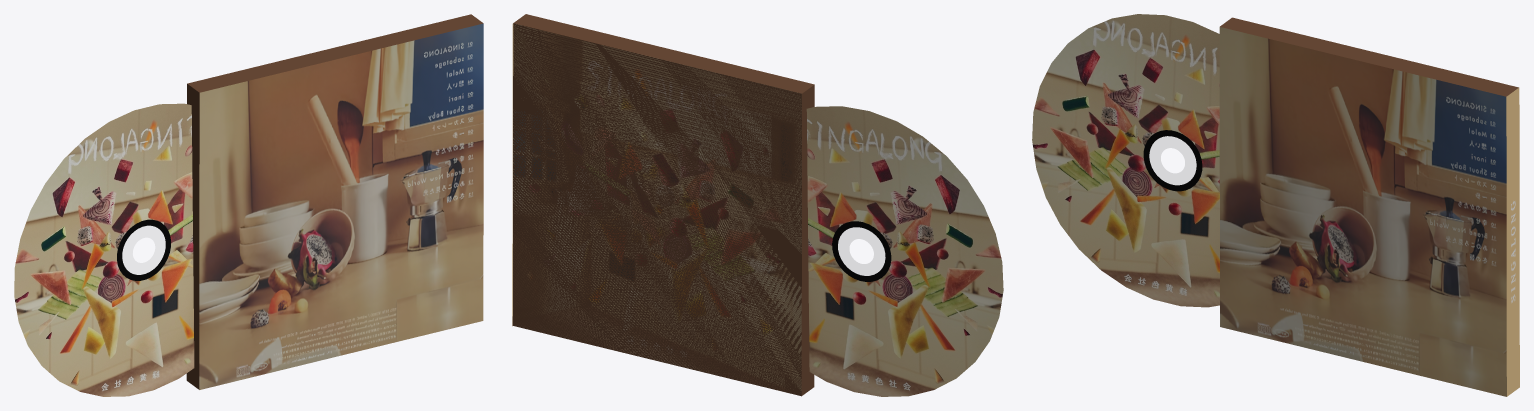
Rendered from cover4.glb.
3 renders of one model, left to right at view 1: azimuth 30°, elevation 25°; view 2: azimuth 150°, elevation 25°; view 3: azimuth 330°, elevation 25°, orthographic.
Visible parts, largest first — view 1: Plane.004, Circle, Plane, Circle.003, Circle.001; view 2: Plane, Circle, Plane.002, Circle.003, Circle.001; view 3: Plane.004, Circle, Plane.001, Plane, Circle.003, Circle.001.
Part boxes in pixels (<box>): Plane.004: <box>199,23,483,389</box>; Circle: <box>14,103,194,396</box>; Plane: <box>186,14,483,389</box>; Circle.003: <box>122,226,165,274</box>; Circle.001: <box>117,219,170,280</box>; Plane: <box>512,14,814,396</box>; Circle: <box>806,106,1003,396</box>; Plane.002: <box>513,24,801,391</box>; Circle.003: <box>838,227,884,275</box>; Circle.001: <box>832,221,891,281</box>; Plane.004: <box>1219,27,1506,396</box>; Circle: <box>1032,14,1219,307</box>; Plane.001: <box>1506,87,1519,396</box>; Plane: <box>1220,17,1518,96</box>; Circle.003: <box>1149,136,1196,184</box>; Circle.001: <box>1143,130,1202,191</box>.
Size of the model in its own units: 5.6 by 3.39 by 0.2819.
7 materials, 4 textured.
